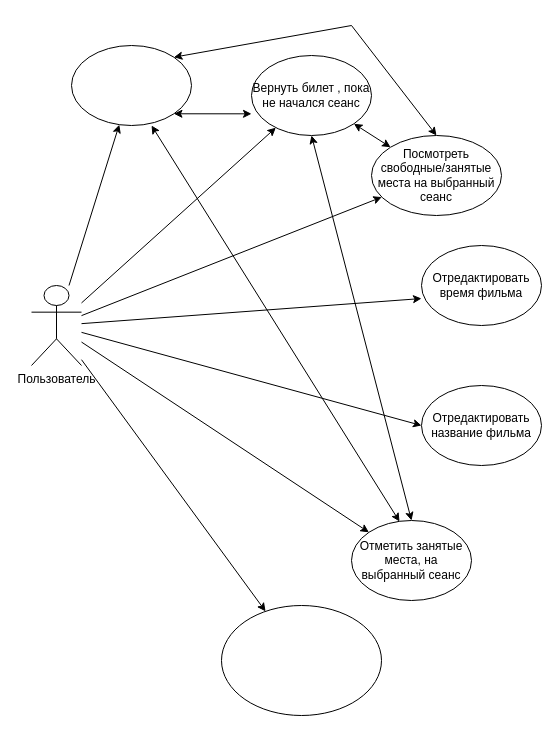
Some shapes in this 559 by 733 pixel diagram are drawn without their labels. Each missing label, with the centre of its shape:
"Выйти из программы сохранив конечные данные в формате csv" goes at pixel 301 660.
"Купить билет, выбрав сеанс и место, пока не начался сеанс" goes at pixel 131 85.
